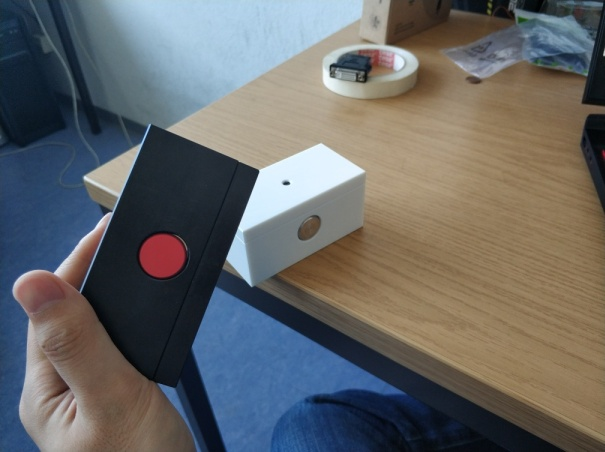black+black+red: (77, 121, 263, 390)
white+white+silver: (222, 141, 369, 290)
